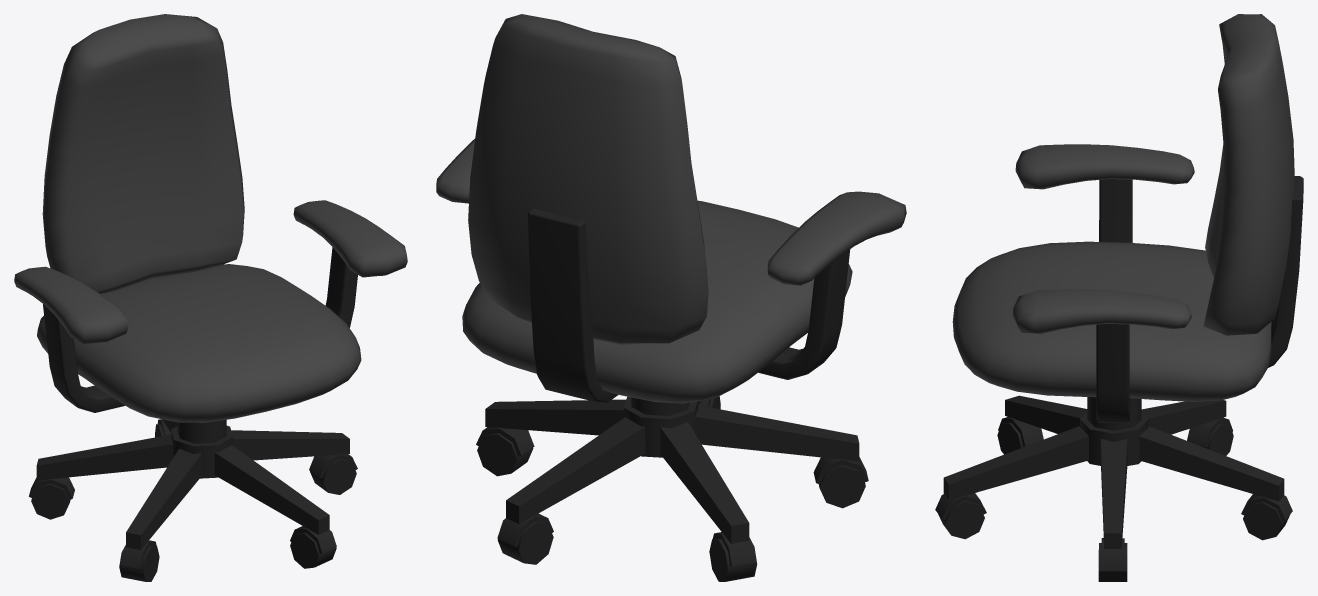
Rendered from chair_033.fbx.
3 views of the same model, side by side, from view 1: azimuth 30°, elevation 25°; view 2: azimuth 150°, elevation 25°; view 3: azimuth 270°, elevation 25° (orthographic). The views are drawn at different scales.
Parts seen in each view (by area): view 1: chair_033; view 2: chair_033; view 3: chair_033.
Part boxes in pixels (x1,y1,x2,y2): chair_033: (14, 14, 407, 581); chair_033: (436, 14, 906, 581); chair_033: (935, 14, 1303, 581).
Size of the model in its own units: 105 by 94.52 by 135.
